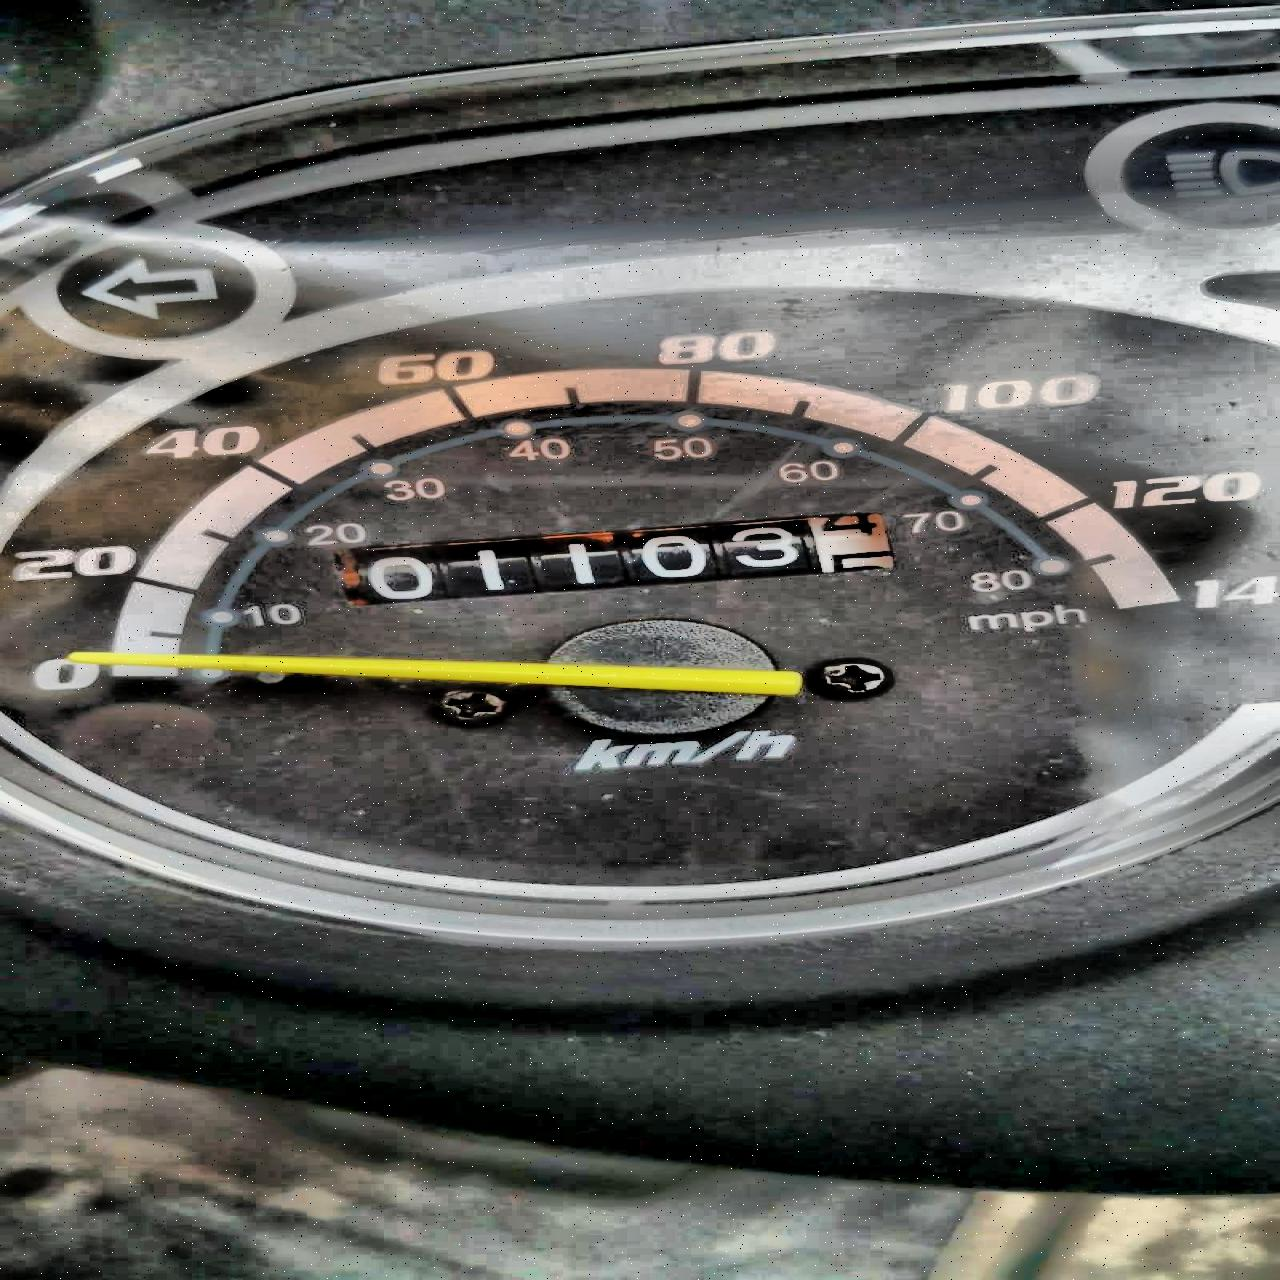0: (632, 533, 712, 579), (365, 554, 437, 602), (334, 519, 369, 544)
1: (464, 544, 512, 592), (558, 540, 601, 587)
3: (728, 524, 799, 570)
4: (816, 506, 885, 542)
odometer: (328, 505, 911, 612)
